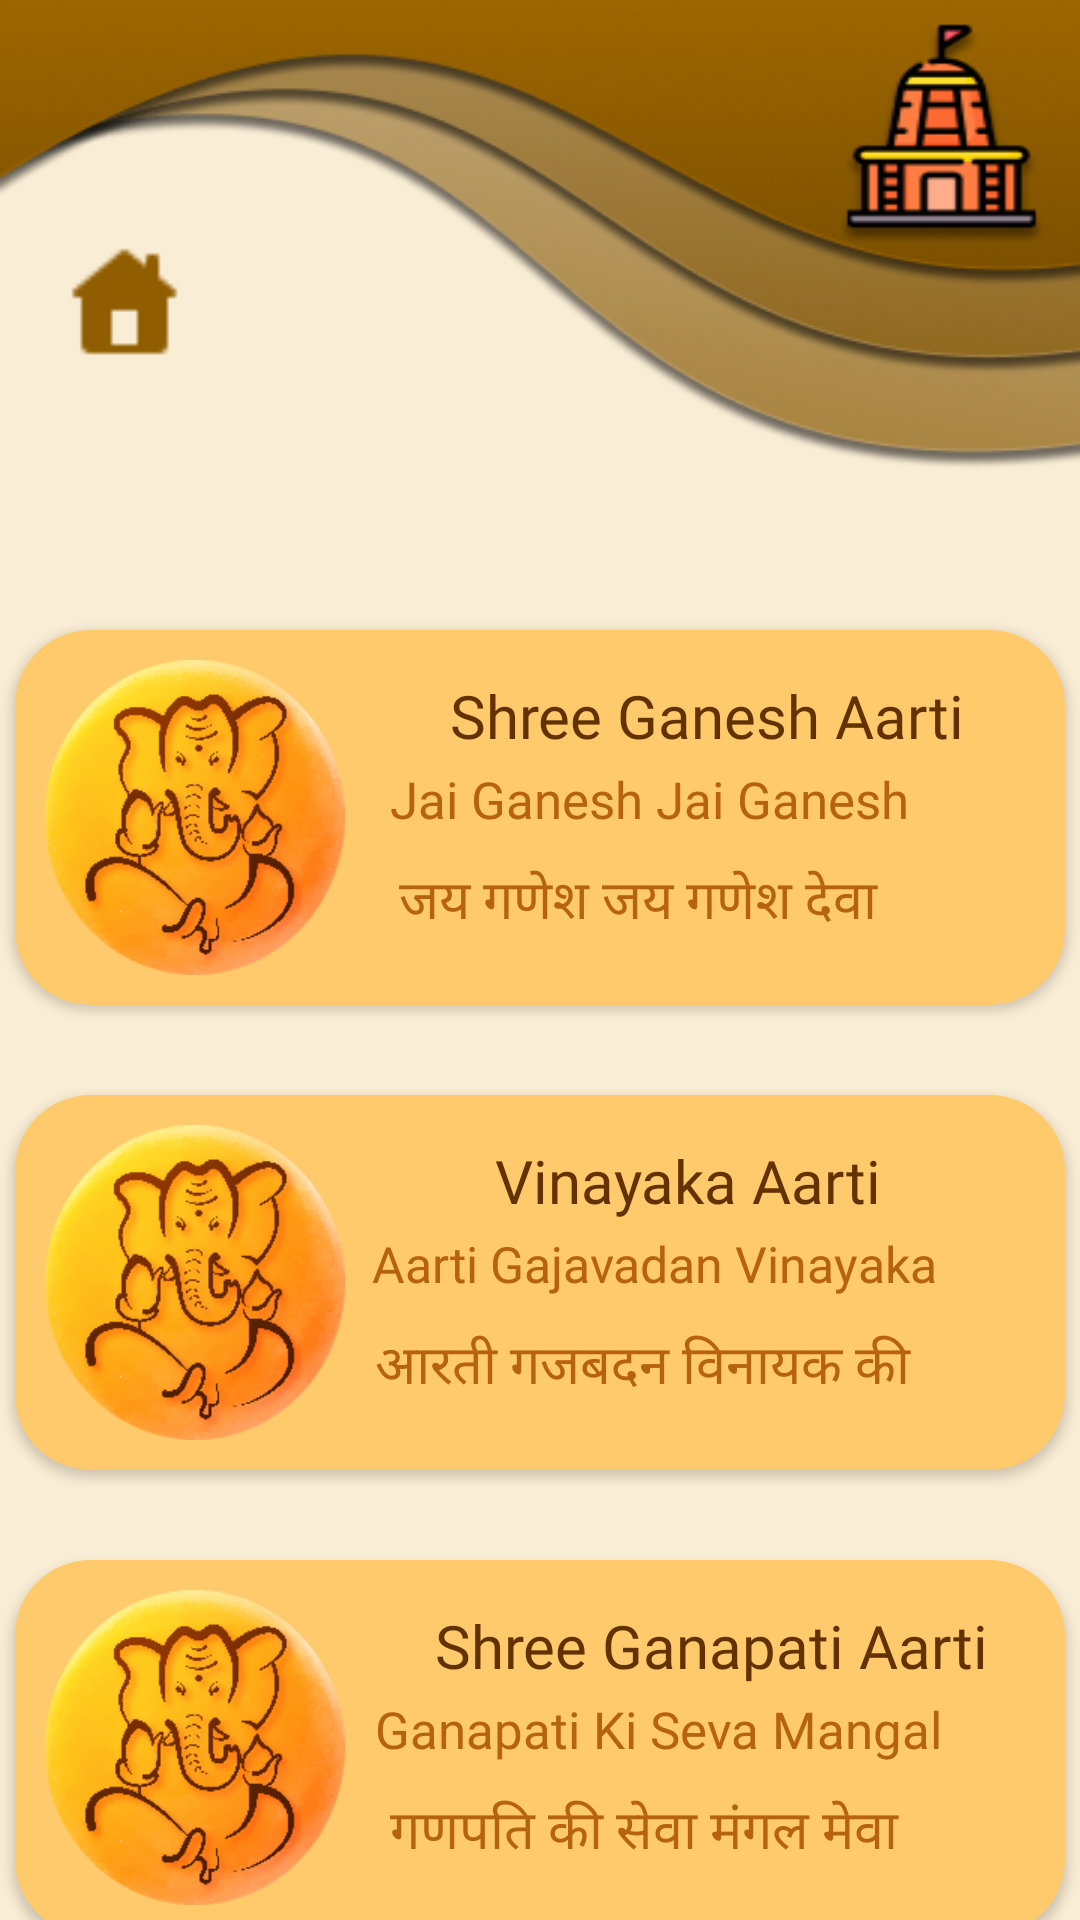

Named icons in this screenshot (1080x1920) and their centers, (x,y):
homeicon: (124,302)
